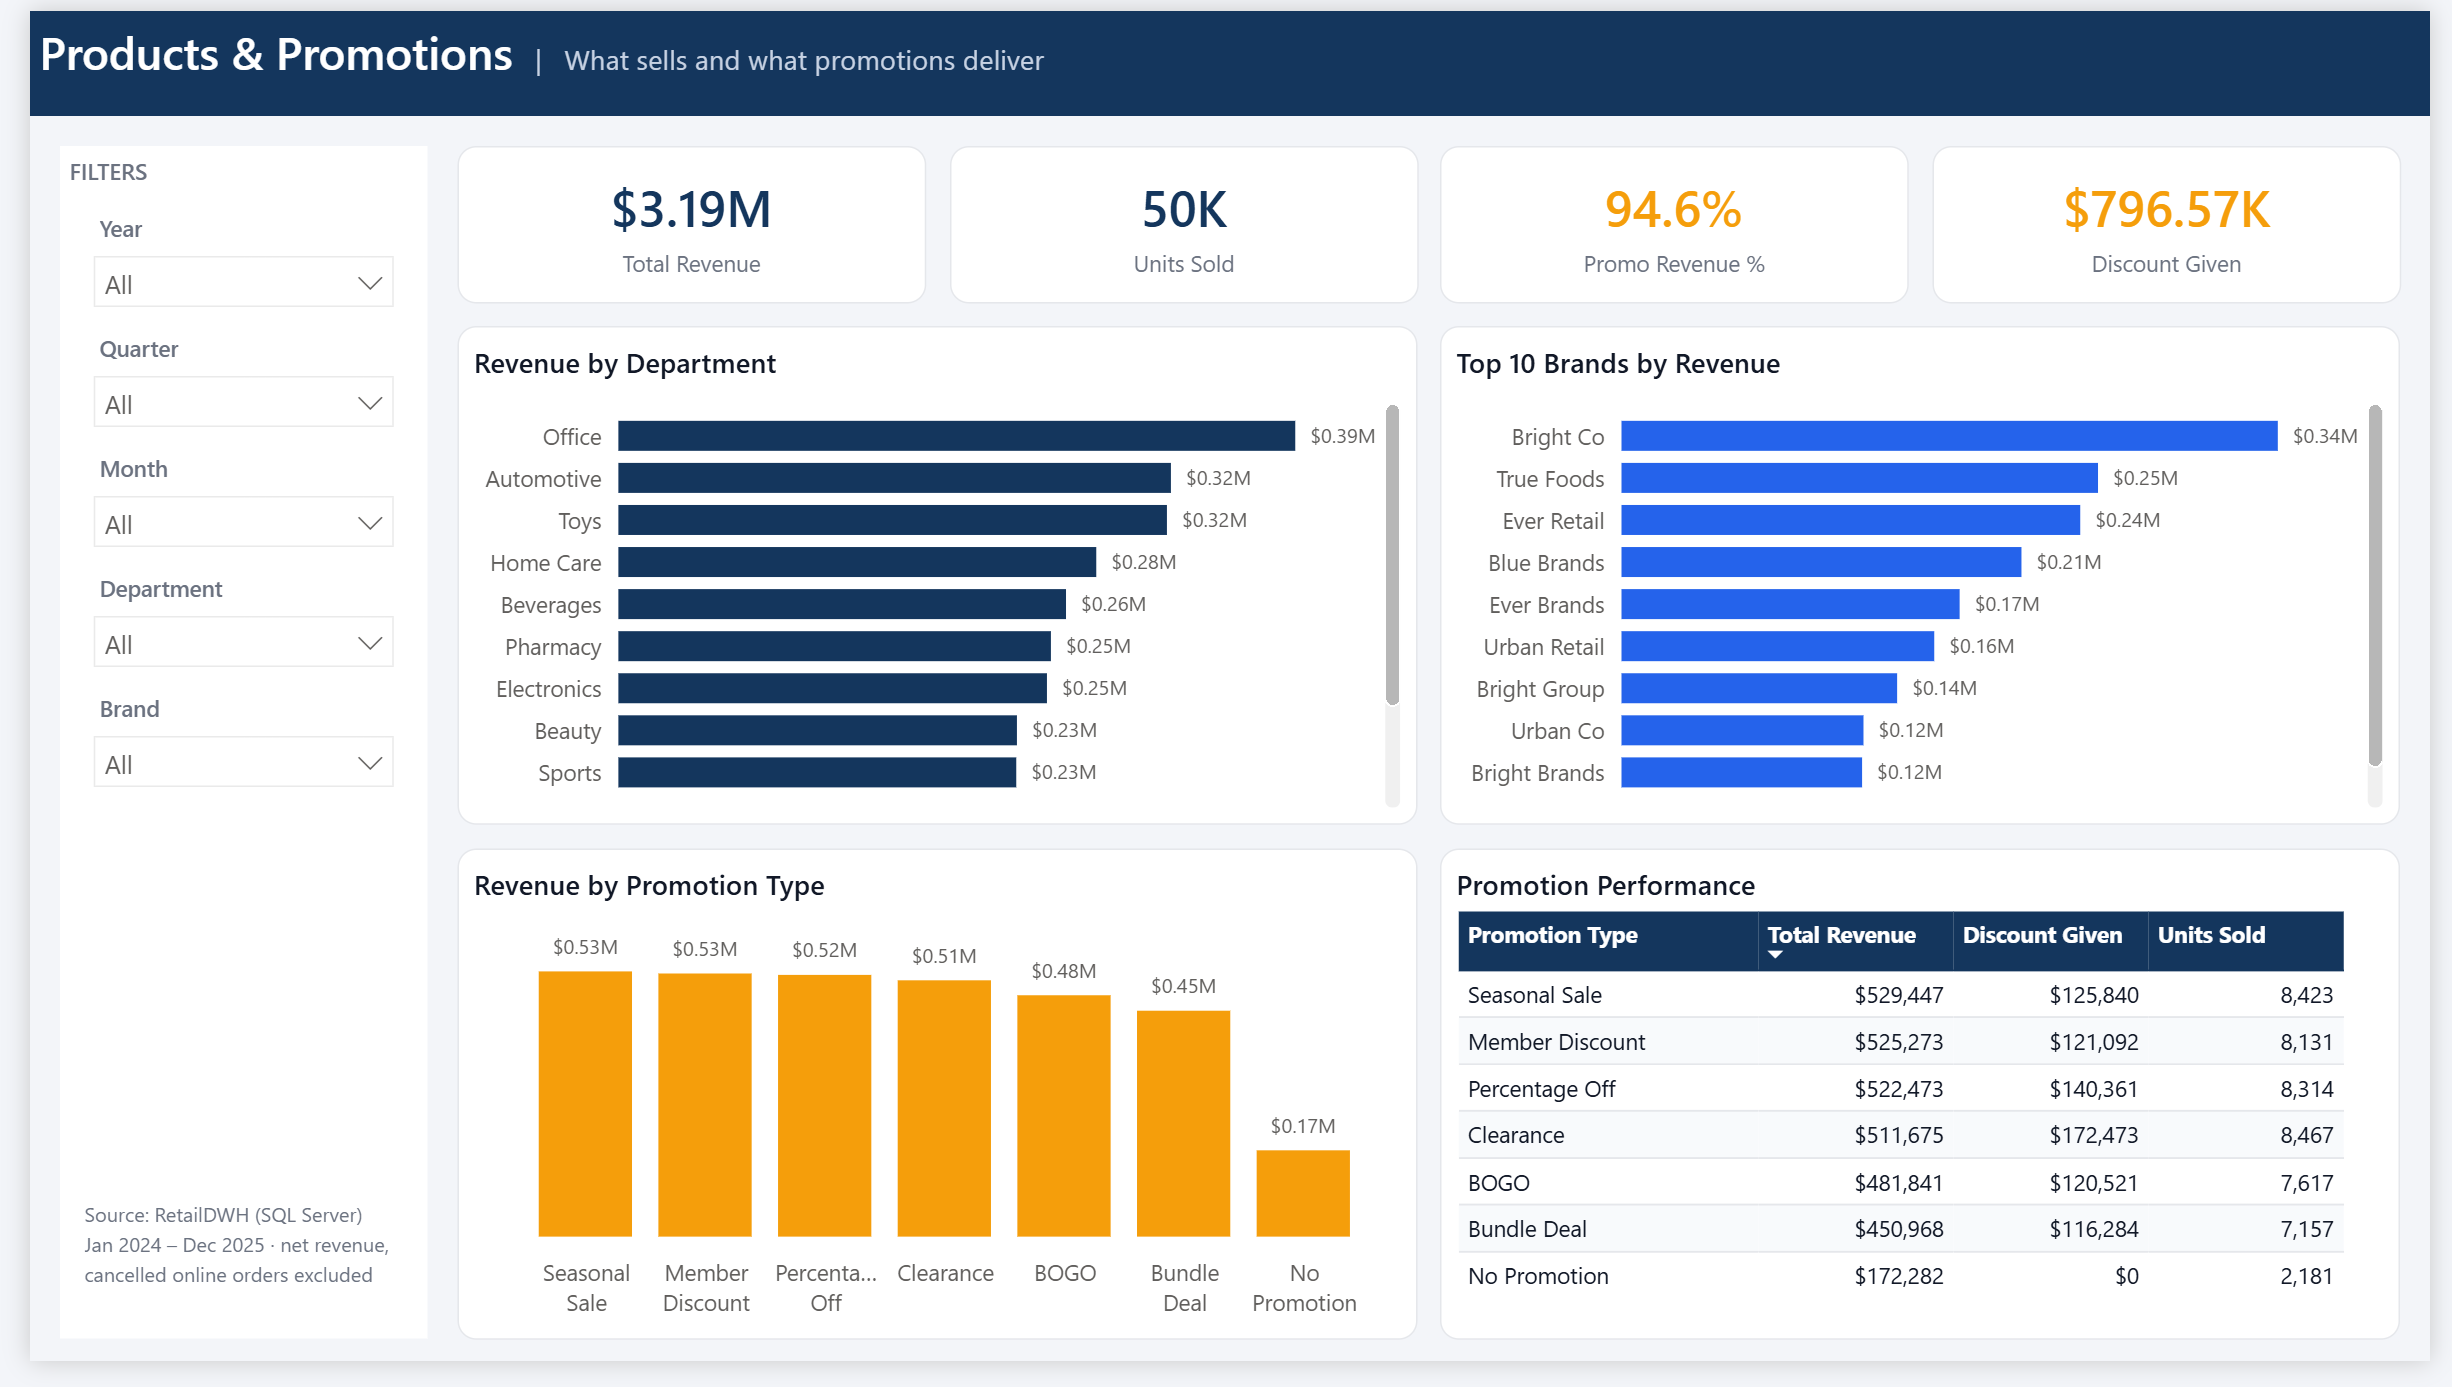

The page's visual inventory and layout, read from the dashboard file:
{"tool":"powerbi","page":{"name":"Products & Promotions","canvas":[1280,720],"ordinal":2},"visuals":[{"type":"textbox","box":[0,0,1280,56],"z":2000},{"type":"textbox","box":[16,72,196,636],"z":4000},{"type":"slicer","fields":{"Values":["Date.Year"]},"box":[24,102,180,56],"z":5000},{"type":"slicer","fields":{"Values":["Date.Quarter"]},"box":[24,166,180,56],"z":6000},{"type":"slicer","fields":{"Values":["Date.Month Name"]},"box":[24,230,180,56],"z":7000},{"type":"slicer","fields":{"Values":["Product.Department"]},"box":[24,294,180,56],"z":8000},{"type":"slicer","fields":{"Values":["Product.Brand"]},"box":[24,358,180,56],"z":9000},{"type":"textbox","box":[24,628,180,64],"z":10000},{"type":"card","fields":{"Values":["Key Measures.Total Revenue"]},"box":[228,72,250,84],"z":11000},{"type":"card","fields":{"Values":["Key Measures.Units Sold"]},"box":[490,72,250,84],"z":12000},{"type":"card","fields":{"Values":["Key Measures.Promo Revenue %"]},"box":[752,72,250,84],"z":13000},{"type":"card","fields":{"Values":["Key Measures.Discount Given"]},"box":[1014,72,250,84],"z":14000},{"type":"clusteredBarChart","title":"Revenue by Department","fields":{"Category":["Product.Department"],"Y":["Key Measures.Total Revenue"]},"box":[228,168,512,266],"z":15000},{"type":"clusteredBarChart","title":"Top 10 Brands by Revenue","fields":{"Category":["Product.Brand"],"Y":["Key Measures.Total Revenue"]},"box":[752,168,512,266],"z":16000},{"type":"clusteredColumnChart","title":"Revenue by Promotion Type","fields":{"Category":["Promotion.Promotion Type"],"Y":["Key Measures.Total Revenue"]},"box":[228,446,512,262],"z":17000},{"type":"tableEx","title":"Promotion Performance","fields":{"Values":["Promotion.Promotion Type","Key Measures.Total Revenue","Key Measures.Discount Given","Key Measures.Units Sold"]},"box":[752,446,512,262],"z":18000}]}

Visuals, with their boxes in screenshot pixels (x1, y1, x2, y2), scaled from the page's 1280x720 canvas onto the 2452x1387 screenshot:
textbox: {"x1": 0, "y1": 0, "x2": 2451, "y2": 108}
textbox: {"x1": 31, "y1": 139, "x2": 406, "y2": 1364}
slicer - Date.Year: {"x1": 46, "y1": 196, "x2": 391, "y2": 304}
slicer - Date.Quarter: {"x1": 46, "y1": 320, "x2": 391, "y2": 428}
slicer - Date.Month Name: {"x1": 46, "y1": 443, "x2": 391, "y2": 551}
slicer - Product.Department: {"x1": 46, "y1": 566, "x2": 391, "y2": 674}
slicer - Product.Brand: {"x1": 46, "y1": 690, "x2": 391, "y2": 798}
textbox: {"x1": 46, "y1": 1210, "x2": 391, "y2": 1333}
card - Key Measures.Total Revenue: {"x1": 437, "y1": 139, "x2": 916, "y2": 301}
card - Key Measures.Units Sold: {"x1": 939, "y1": 139, "x2": 1418, "y2": 301}
card - Key Measures.Promo Revenue %: {"x1": 1441, "y1": 139, "x2": 1919, "y2": 301}
card - Key Measures.Discount Given: {"x1": 1942, "y1": 139, "x2": 2421, "y2": 301}
"Revenue by Department" clusteredBarChart: {"x1": 437, "y1": 324, "x2": 1418, "y2": 836}
"Top 10 Brands by Revenue" clusteredBarChart: {"x1": 1441, "y1": 324, "x2": 2421, "y2": 836}
"Revenue by Promotion Type" clusteredColumnChart: {"x1": 437, "y1": 859, "x2": 1418, "y2": 1364}
"Promotion Performance" tableEx: {"x1": 1441, "y1": 859, "x2": 2421, "y2": 1364}
